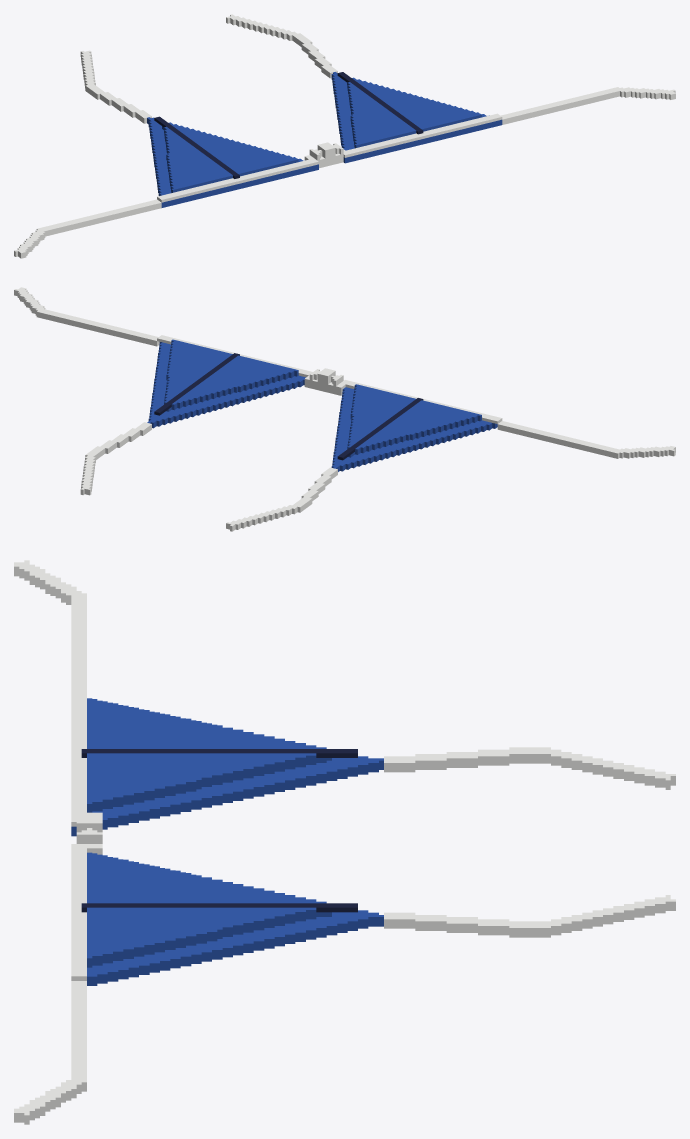
Rendered from bikini_top.glb.
3 renders of one model, top to bottom at view 1: azimuth 30°, elevation 25°; view 2: azimuth 150°, elevation 25°; view 3: azimuth 270°, elevation 25°, orthographic. The views are drawn at different scales.
Visible parts, largest first — view 1: bikini_top:compound; view 2: bikini_top:compound; view 3: bikini_top:compound.
Boxes of the visible parts, bbox=[...] form: bikini_top:compound: bbox=[14, 14, 675, 258]; bikini_top:compound: bbox=[14, 287, 675, 531]; bikini_top:compound: bbox=[14, 560, 675, 1124].
Size of the model in its own units: 0.504 by 0.012 by 0.254.
